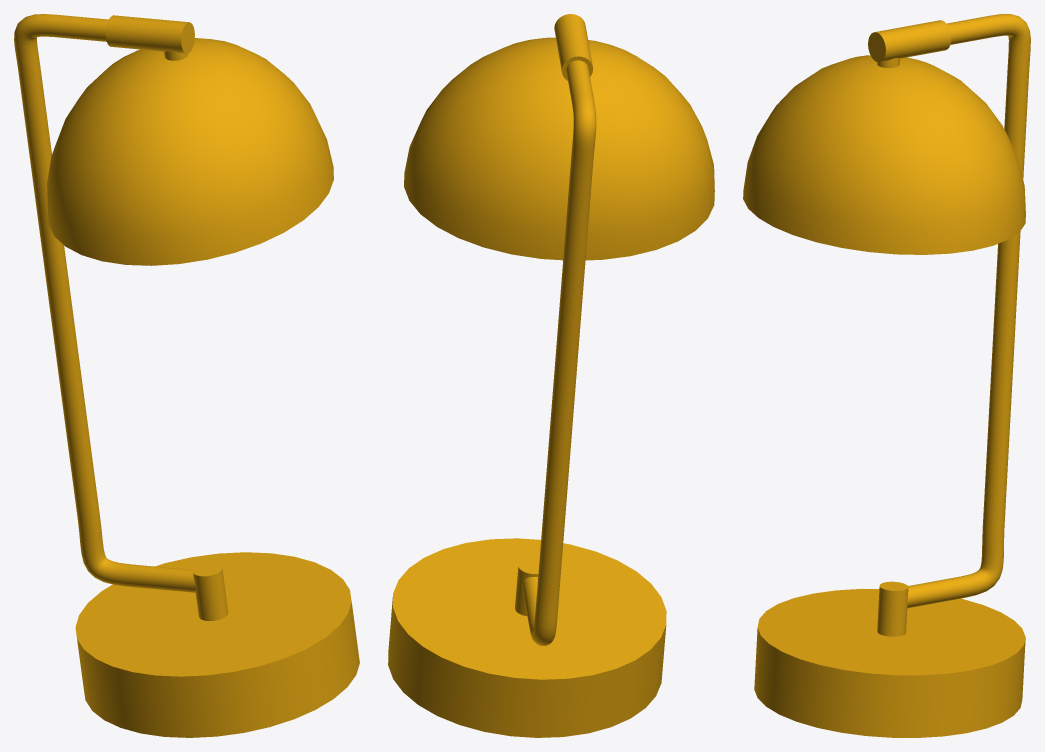
File: lamp.glb
The picture shows the model from 3 angles, left to right: view 1: azimuth 30°, elevation 25°; view 2: azimuth 150°, elevation 25°; view 3: azimuth 270°, elevation 25°; orthographic projection. The views are drawn at different scales.
Parts seen in each view (by area): view 1: Cylinder; view 2: Cylinder; view 3: Cylinder.
Part boxes in pixels (<box>): Cylinder: <box>14,14,359,737</box>; Cylinder: <box>388,14,714,737</box>; Cylinder: <box>743,14,1030,737</box>.
Size of the model in its own units: 0.7857 by 1.8 by 0.7137.
